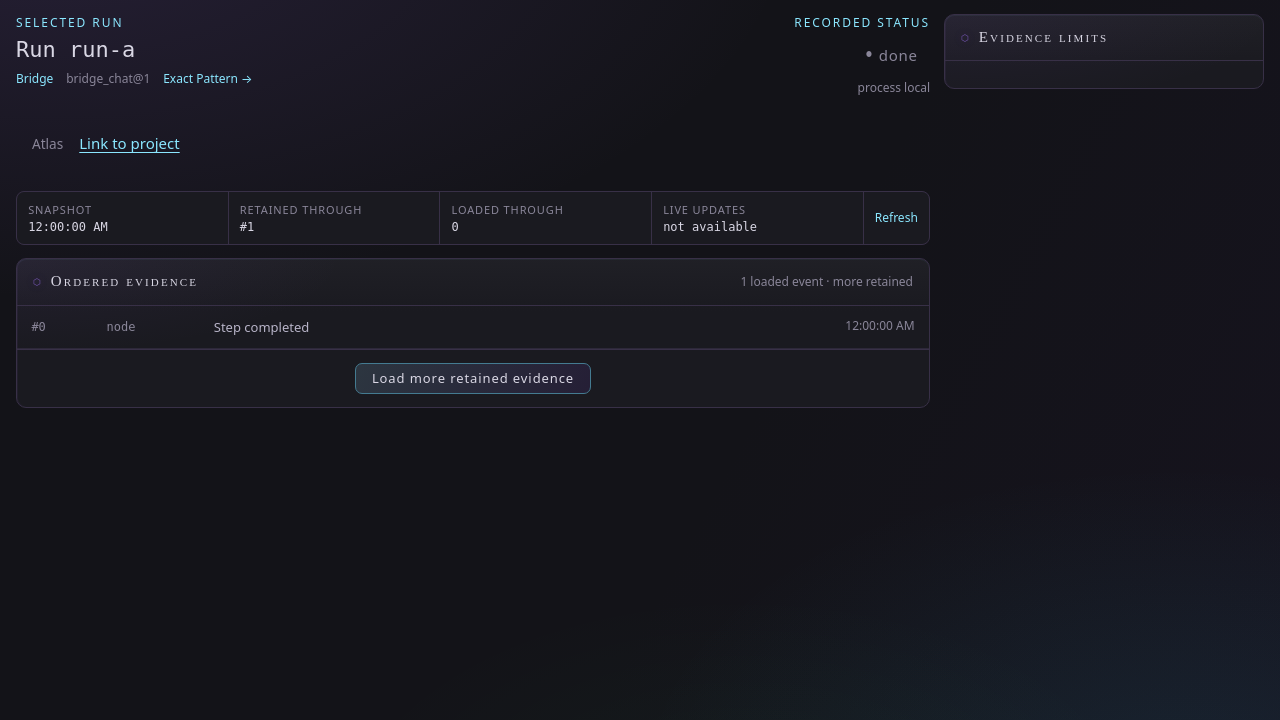
Scenario: Orb evidence pagination › refuses to merge a page returned for another Run
Expected: the button "#0 node Step completed 12:00:00 AM" is shown, top-left (17, 306), bottom-right (929, 349)
Step 1. Click the button "Load more retained evidence" → x=473, y=378, box top-left (355, 363), bottom-right (591, 394)
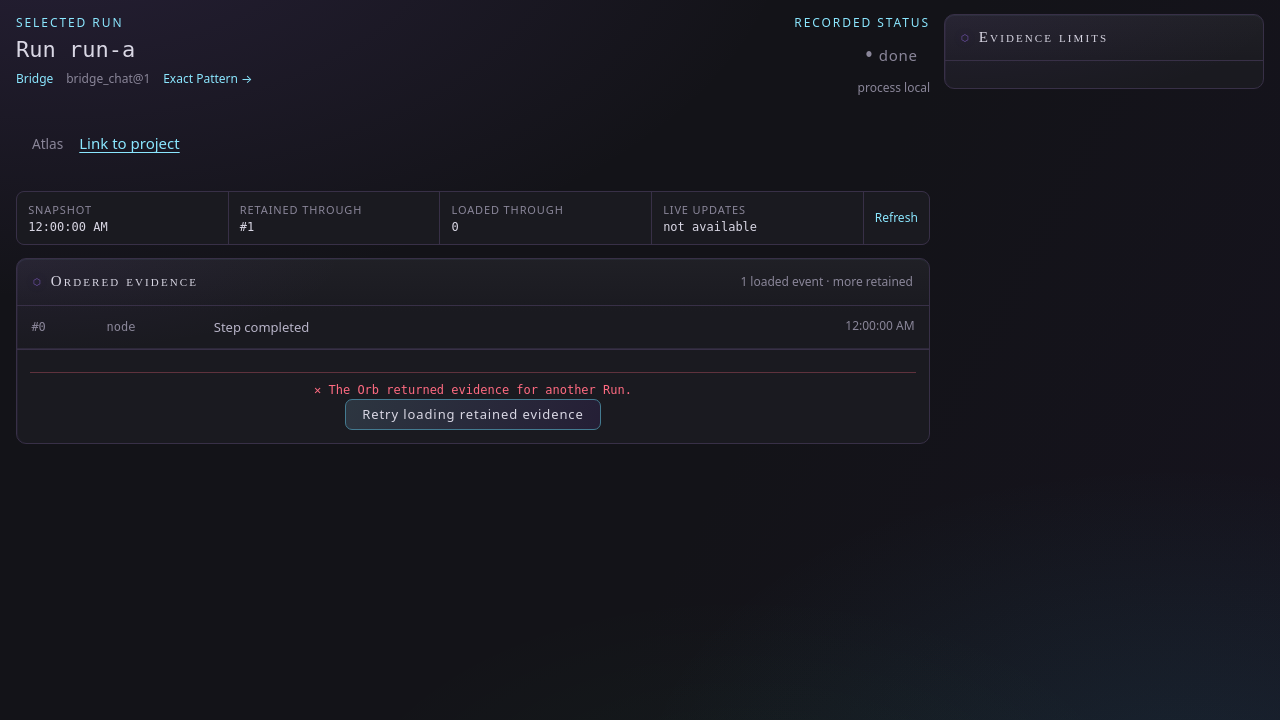
Expected: the button "#0 node Step completed 12:00:00 AM" is shown, top-left (17, 306), bottom-right (929, 349)
Now the message reads "The Orb returned evidence for another Run.", box top-left (328, 383), bottom-right (632, 397)
